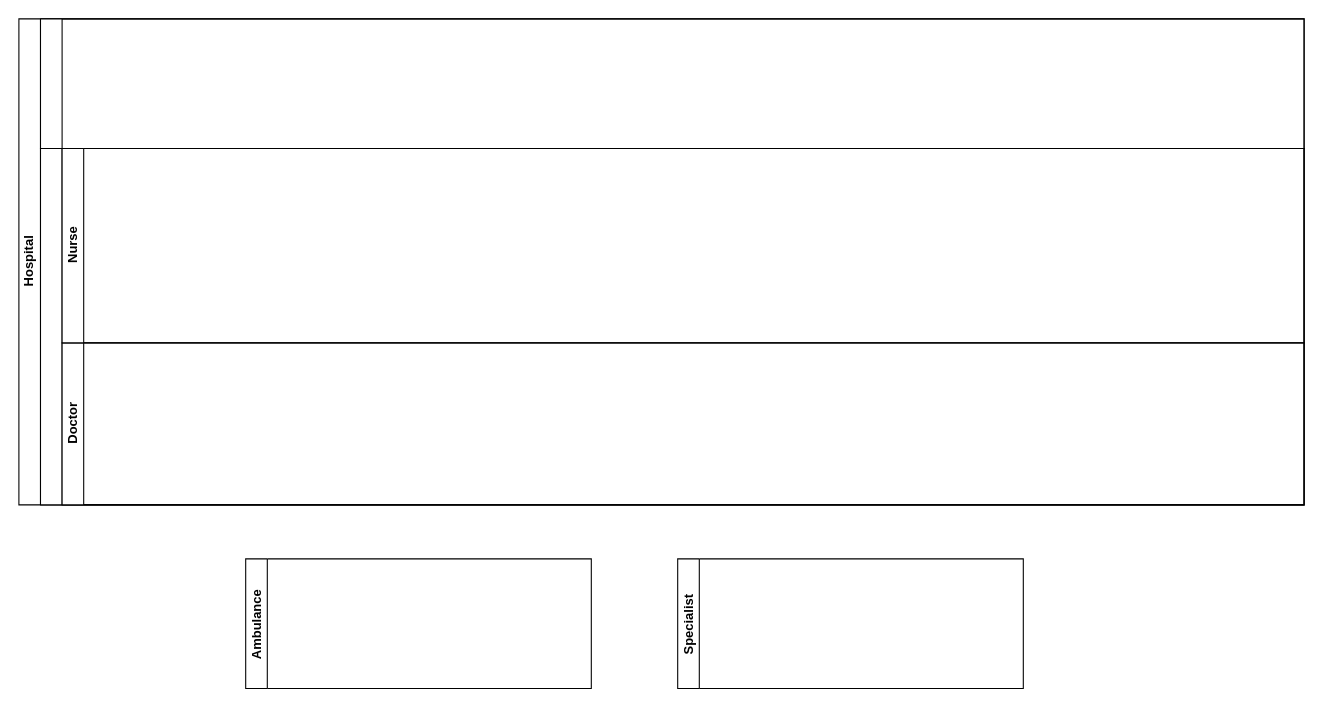
This 1322x706 diagram has some shape labels left out. Here are the shapes that lost their labels. From the top down, the box of each, then its label:
(39, 18, 1304, 148): Transport dept.
(39, 147, 1304, 505): Emergency ward
